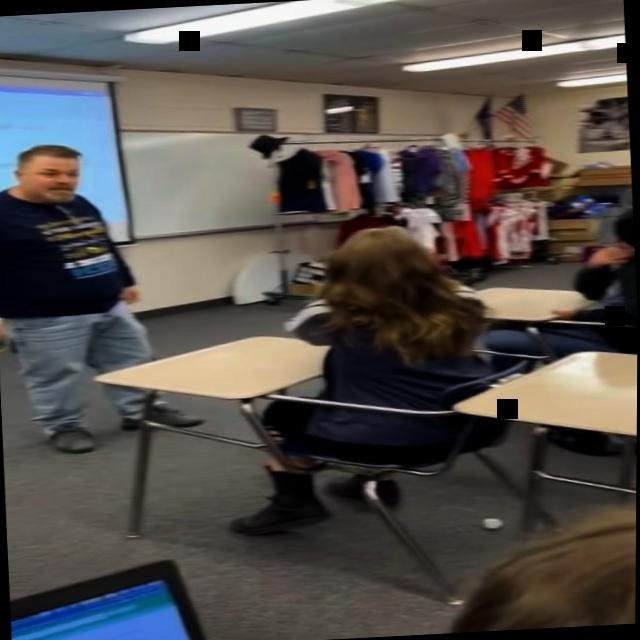NO-Mask: (14, 147, 83, 208)
